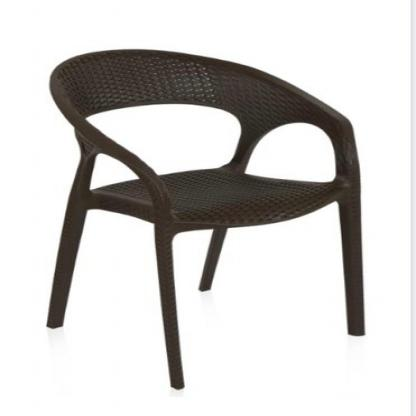chair: (49, 48, 383, 407)
